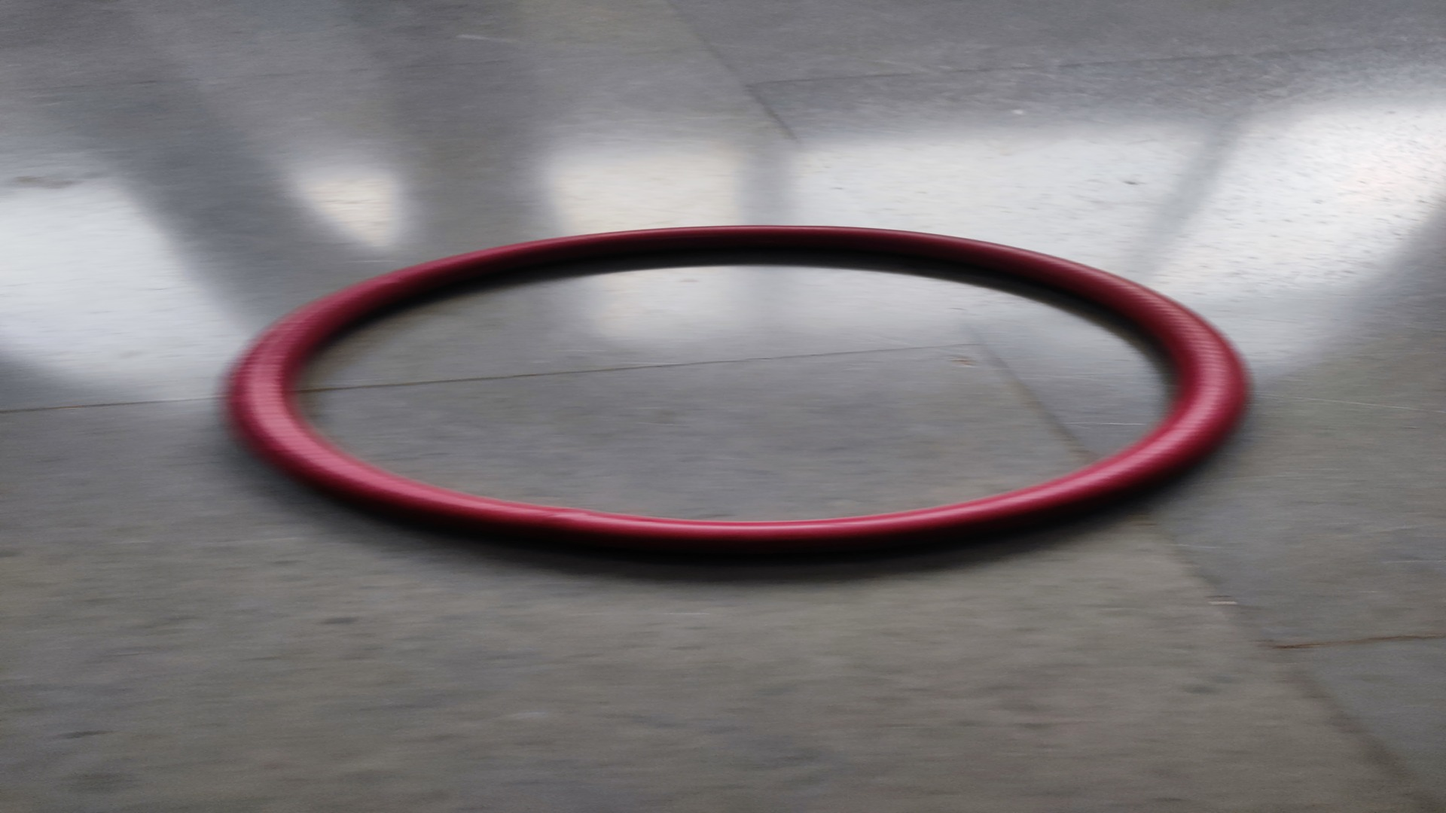Red ring: (230, 223, 1249, 552)
